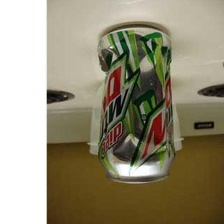can: (92, 20, 177, 185)
